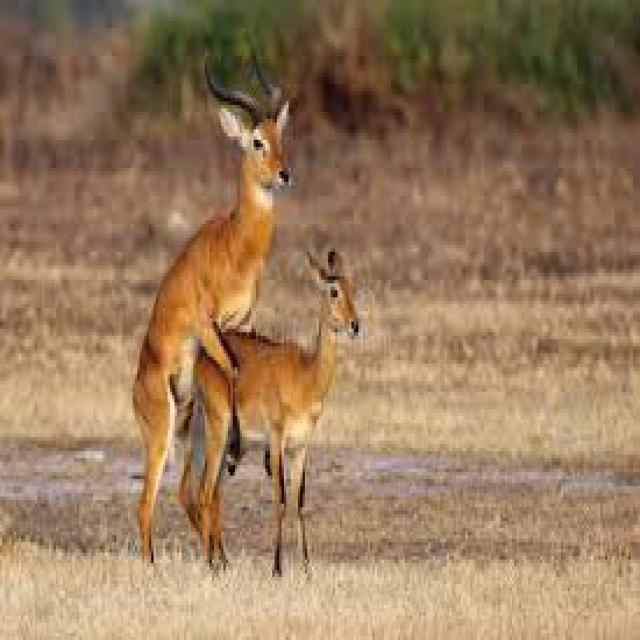Antelope: (128, 16, 308, 571), (182, 234, 363, 579)
